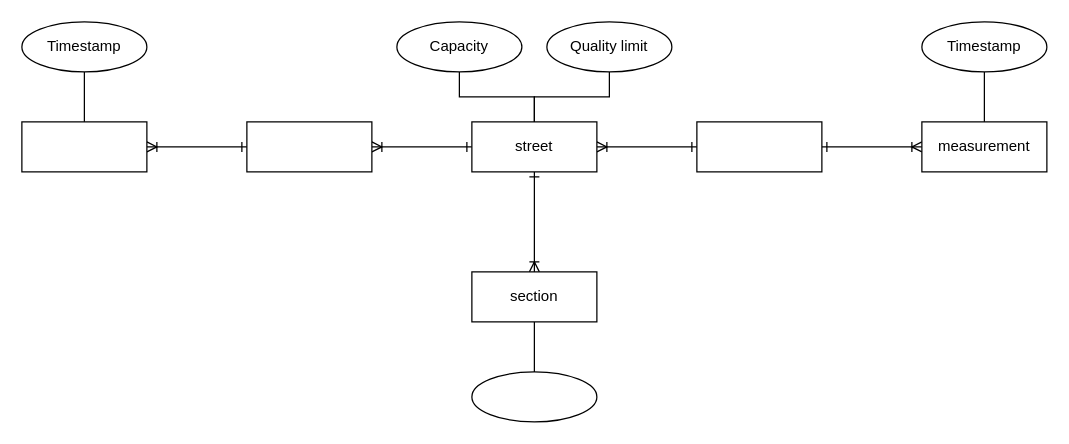
This 1069x444 diagram has some shape labels left out. Here are the shapes that lost their labels. From the top down, the box of each, then its label:
(21, 121, 147, 172): image
(246, 121, 372, 172): camera
(696, 121, 822, 172): sensor-station
(471, 371, 597, 422): Speed limit
